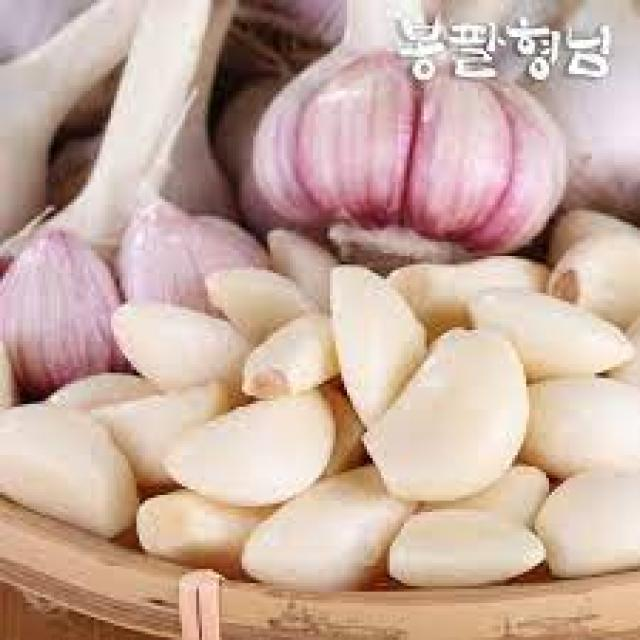Garlic bulb: (205, 258, 626, 501)
